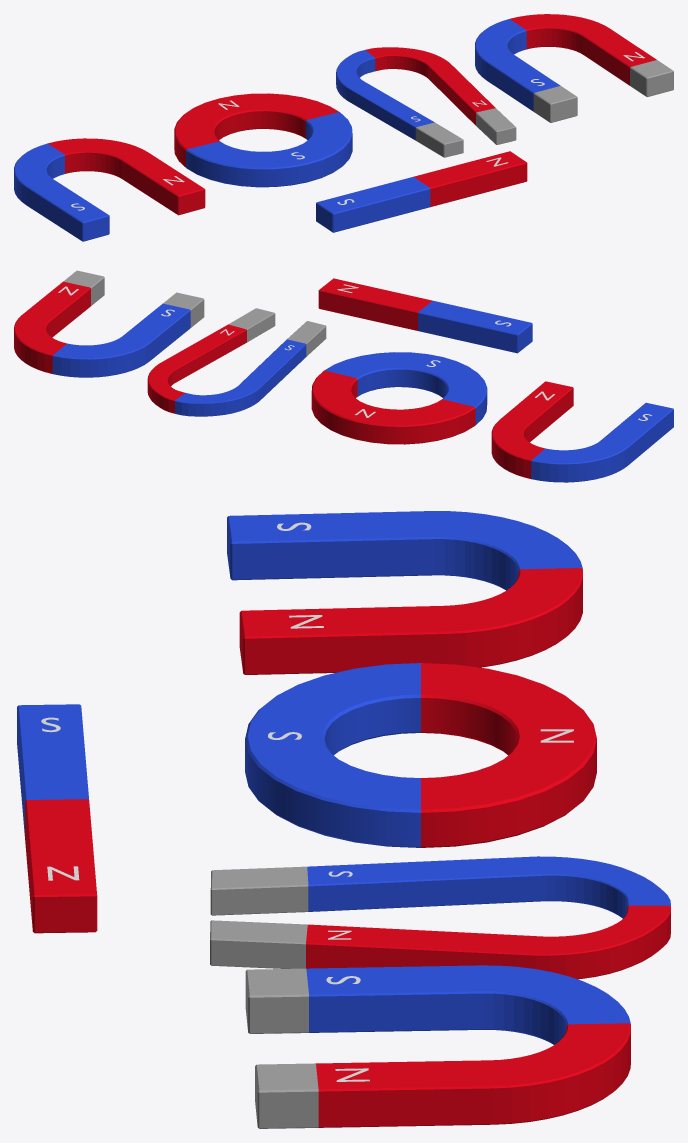
File: Magnet Pack.fbx
The picture shows the model from 3 angles, top to bottom: view 1: azimuth 30°, elevation 25°; view 2: azimuth 150°, elevation 25°; view 3: azimuth 270°, elevation 25°; orthographic projection. The views are drawn at different scales.
Visible parts, largest first — view 1: Disk Magnet, U Shape Magnet, U Shape Magnet 2, Horsehoe Magnet, Stick Magnet; view 2: Disk Magnet, U Shape Magnet, U Shape Magnet 2, Horsehoe Magnet, Stick Magnet; view 3: U Shape Magnet, Disk Magnet, U Shape Magnet 2, Horsehoe Magnet, Stick Magnet.
Part boxes in pixels (<box>): Disk Magnet: <box>174,93,352,187</box>; U Shape Magnet: <box>475,14,673,122</box>; U Shape Magnet 2: <box>14,138,205,241</box>; Horsehoe Magnet: <box>336,47,516,157</box>; Stick Magnet: <box>316,151,527,232</box>; Disk Magnet: <box>311,352,487,444</box>; U Shape Magnet: <box>14,270,204,377</box>; U Shape Magnet 2: <box>491,381,673,482</box>; Horsehoe Magnet: <box>147,308,326,416</box>; Stick Magnet: <box>318,278,532,353</box>; U Shape Magnet: <box>245,965,630,1128</box>; Disk Magnet: <box>245,663,596,847</box>; U Shape Magnet 2: <box>227,511,582,674</box>; Horsehoe Magnet: <box>210,856,670,979</box>; Stick Magnet: <box>17,704,97,933</box>.
Size of the model in its own units: 2579 by 81.09 by 1228.
